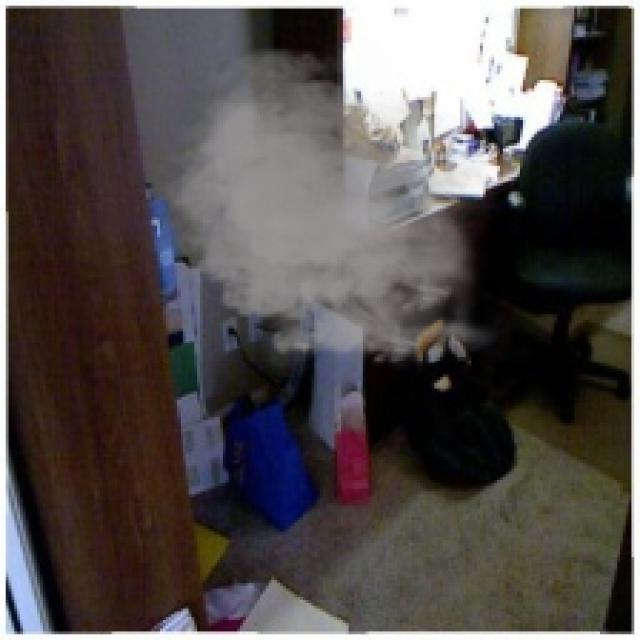Smoke: (154, 37, 506, 380)
